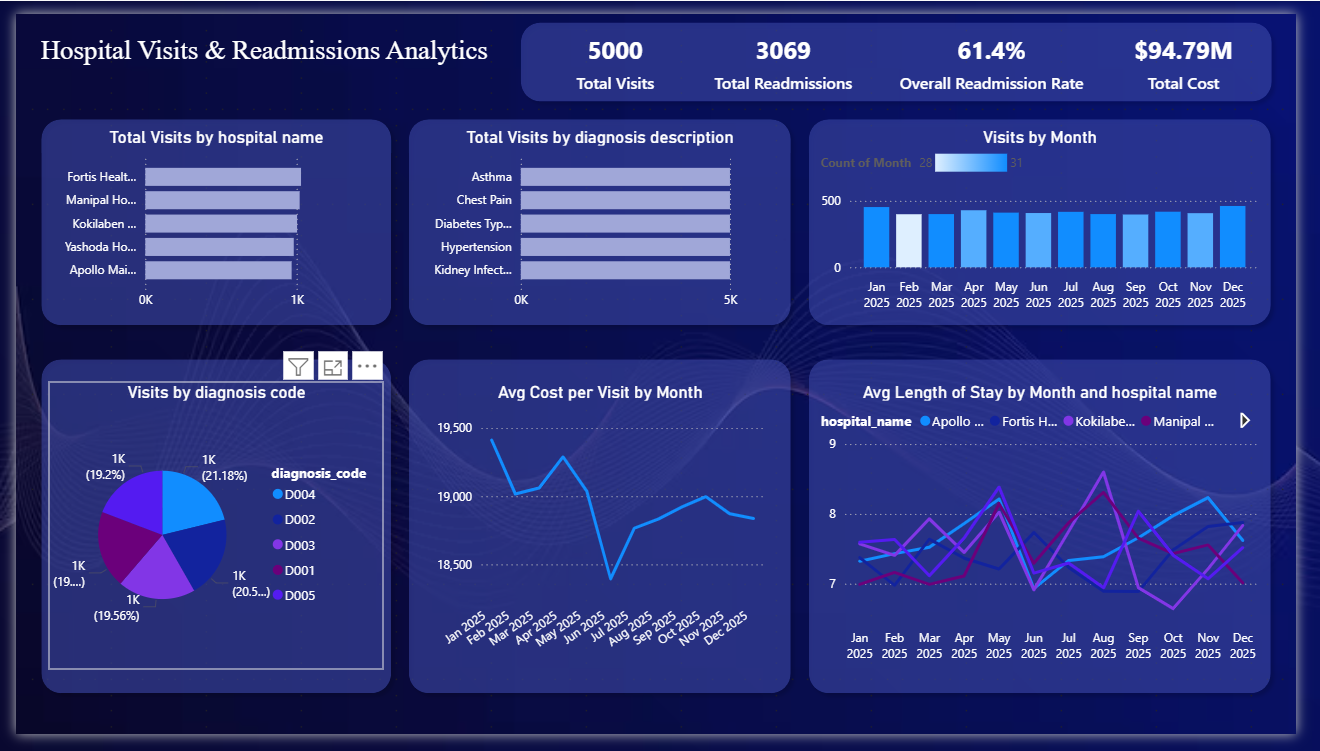

This screenshot's page, from the dashboard's own definition file:
{"tool":"powerbi","page":{"name":"Overview","canvas":[1280,720],"ordinal":0},"visuals":[{"type":"shape","box":[496,0,768,96],"z":0},{"type":"shape","box":[384,336,400,352],"z":1000},{"type":"shape","box":[784,336,480,352],"z":2000},{"type":"shape","box":[16,336,368,352],"z":3000},{"type":"card","fields":{"Values":["MyMeasures.Total Visits"]},"box":[528,16,144,64],"z":4000},{"type":"shape","box":[784,96,480,224],"z":5000},{"type":"textbox","box":[16,16,464,48],"z":6000},{"type":"shape","box":[384,96,400,224],"z":7000},{"type":"card","fields":{"Values":["MyMeasures.Total Readmissions"]},"box":[688,16,160,64],"z":8000},{"type":"card","fields":{"Values":["MyMeasures.Overall Readmission Rate"]},"box":[864,16,224,64],"z":9000},{"type":"shape","box":[16,96,368,224],"z":10000},{"type":"card","fields":{"Values":["MyMeasures.Total Cost"]},"box":[1104,16,128,64],"z":11000},{"type":"pieChart","title":"Visits  by diagnosis code","fields":{"Category":["fact_visit.diagnosis_code"],"Y":["MyMeasures.Visits (Silver)"]},"box":[32,368,336,288],"z":12000},{"type":"clusteredBarChart","title":"Total Visits by diagnosis description","fields":{"Category":["fact_visit.diagnosis_desc"],"Y":["MyMeasures.Total Visits"]},"box":[400,112,368,192],"z":13000},{"type":"lineChart","title":"Avg Length of Stay by Month and hospital name","fields":{"Category":["DateTable.Month"],"Y":["MyMeasures.Avg Length of Stay"],"Series":["dim_hospital.hospital_name"]},"box":[800,368,448,288],"z":14000},{"type":"clusteredBarChart","title":"Total Visits by hospital name","fields":{"Category":["hospital_disease_kpi.hospital_name"],"Y":["MyMeasures.Total Visits"]},"box":[32,112,336,192],"z":15000},{"type":"clusteredColumnChart","title":"Visits  by Month","fields":{"Category":["DateTable.Month"],"Y":["MyMeasures.Visits (Silver)"]},"box":[800,112,448,192],"z":16000},{"type":"lineChart","fields":{"Category":["DateTable.Month"],"Y":["MyMeasures.Avg Cost per Visit"]},"box":[416,368,336,288],"z":17000}]}

Visuals, with their boxes in screenshot pixels (x1, y1, x2, y2), scaled from the page's 1280x720 canvas onto the 1320x751 screenshot:
shape: x1=512 y1=0 x2=1304 y2=100
shape: x1=396 y1=350 x2=808 y2=718
shape: x1=808 y1=350 x2=1304 y2=718
shape: x1=16 y1=350 x2=396 y2=718
card - MyMeasures.Total Visits: x1=544 y1=17 x2=693 y2=83
shape: x1=808 y1=100 x2=1304 y2=334
textbox: x1=16 y1=17 x2=495 y2=67
shape: x1=396 y1=100 x2=808 y2=334
card - MyMeasures.Total Readmissions: x1=710 y1=17 x2=874 y2=83
card - MyMeasures.Overall Readmission Rate: x1=891 y1=17 x2=1122 y2=83
shape: x1=16 y1=100 x2=396 y2=334
card - MyMeasures.Total Cost: x1=1138 y1=17 x2=1270 y2=83
"Visits  by diagnosis code" pieChart: x1=33 y1=384 x2=380 y2=684
"Total Visits by diagnosis description" clusteredBarChart: x1=412 y1=117 x2=792 y2=317
"Avg Length of Stay by Month and hospital name" lineChart: x1=825 y1=384 x2=1287 y2=684
"Total Visits by hospital name" clusteredBarChart: x1=33 y1=117 x2=380 y2=317
"Visits  by Month" clusteredColumnChart: x1=825 y1=117 x2=1287 y2=317
lineChart - DateTable.Month x MyMeasures.Avg Cost per Visit: x1=429 y1=384 x2=776 y2=684
